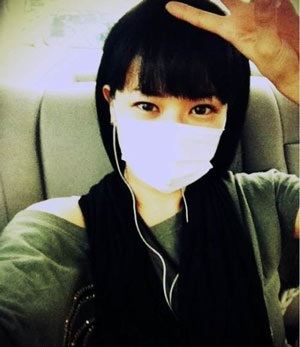face_mask: (116, 44, 224, 194)
